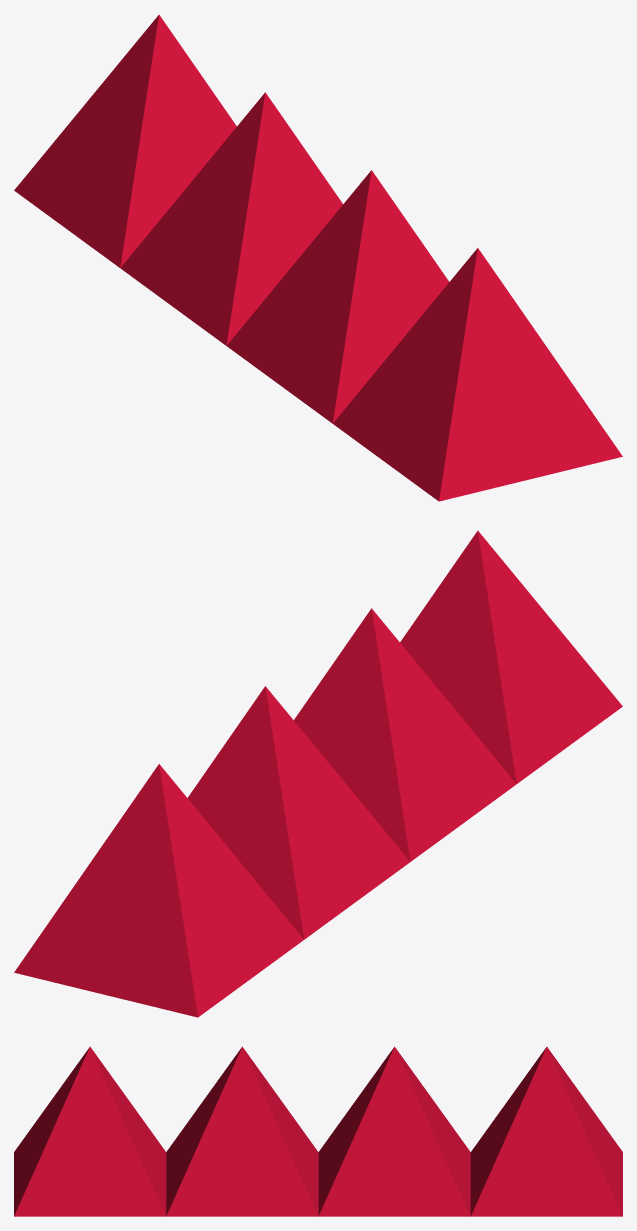
The model's file is engel.fbx.
3 views of the same model, one above another, from view 1: azimuth 30°, elevation 25°; view 2: azimuth 150°, elevation 25°; view 3: azimuth 270°, elevation 25° (orthographic). The views are drawn at different scales.
Parts seen in each view (by area): view 1: Cube; view 2: Cube; view 3: Cube.
Boxes of the visible parts, x1,y1,x2,y2 form: Cube: (14,14,622,501); Cube: (14,530,622,1017); Cube: (14,1046,622,1216).
Size of the model in its own units: 200 by 200 by 800.
